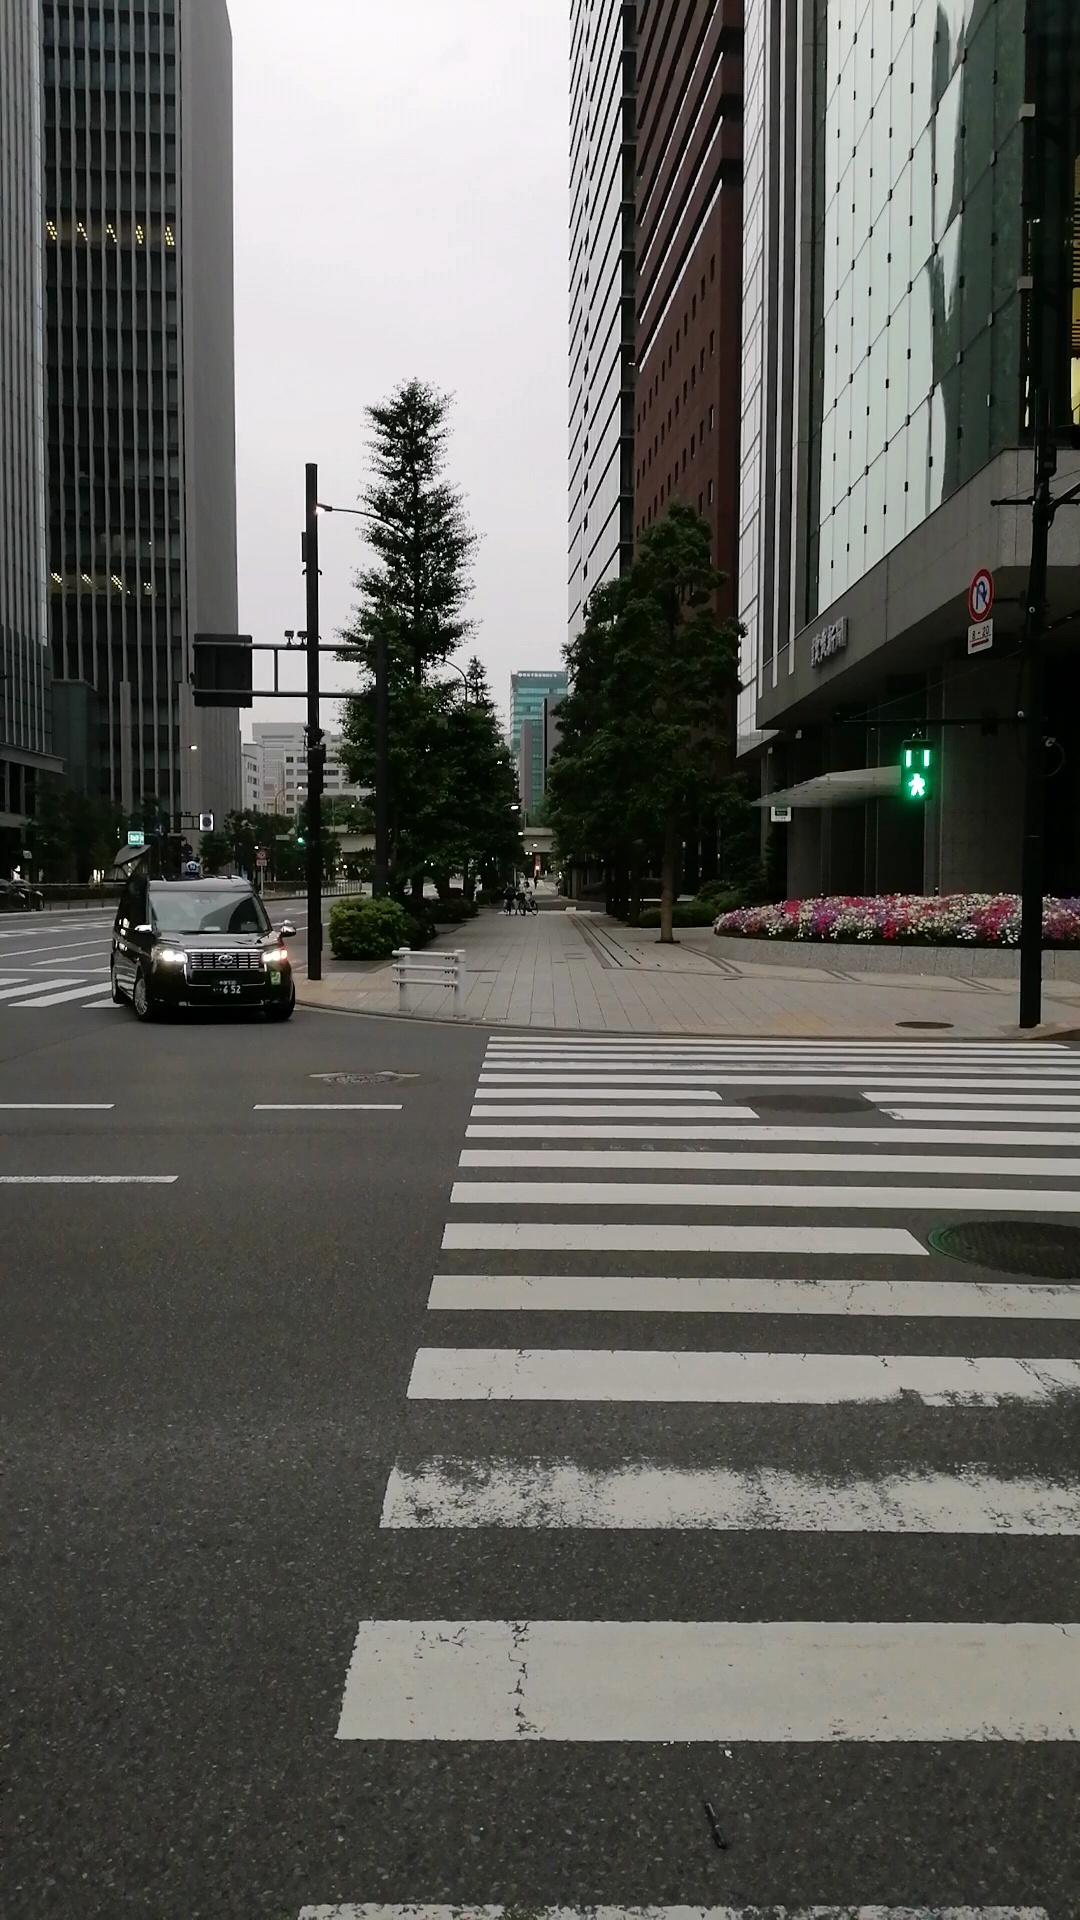green: (899, 738, 935, 802)
